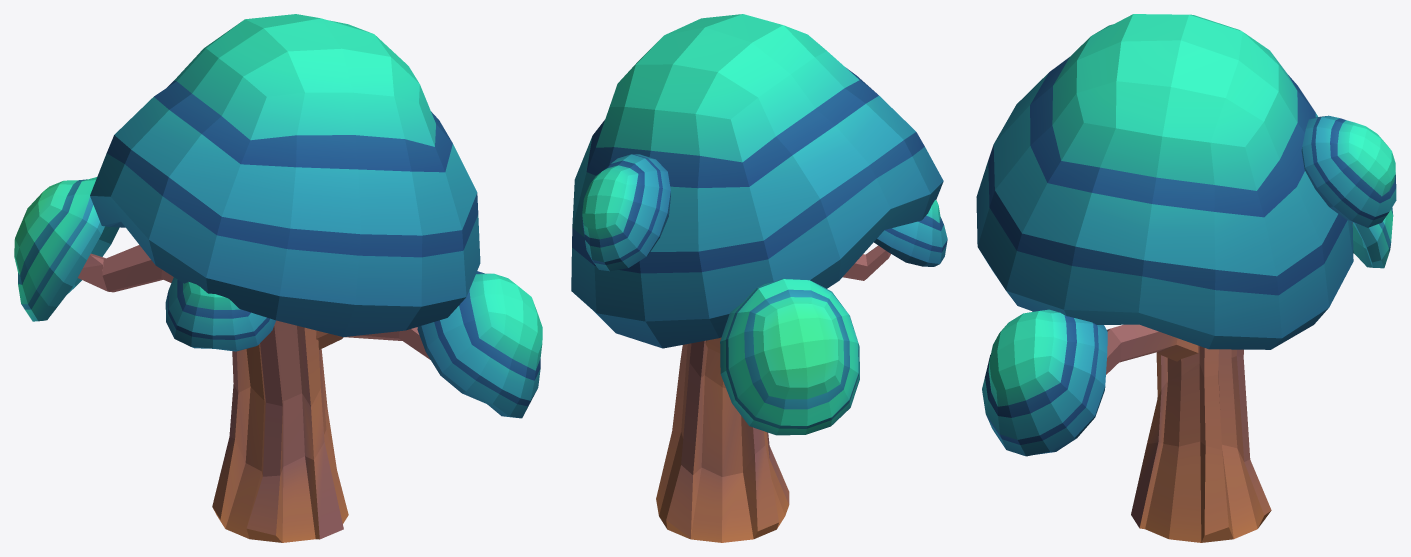
Rendered from Tree_Medium_D.fbx.
3 views of the same model, side by side, from view 1: azimuth 30°, elevation 25°; view 2: azimuth 150°, elevation 25°; view 3: azimuth 270°, elevation 25° (orthographic). The views are drawn at different scales.
Parts seen in each view (by area): view 1: Tree_Medium_D; view 2: Tree_Medium_D; view 3: Tree_Medium_D.
Part boxes in pixels (box(x1,y1,x2,y2)): Tree_Medium_D: box(14, 14, 542, 542); Tree_Medium_D: box(571, 14, 947, 542); Tree_Medium_D: box(976, 14, 1396, 542).
Size of the model in its own units: 170 by 217 by 169.
